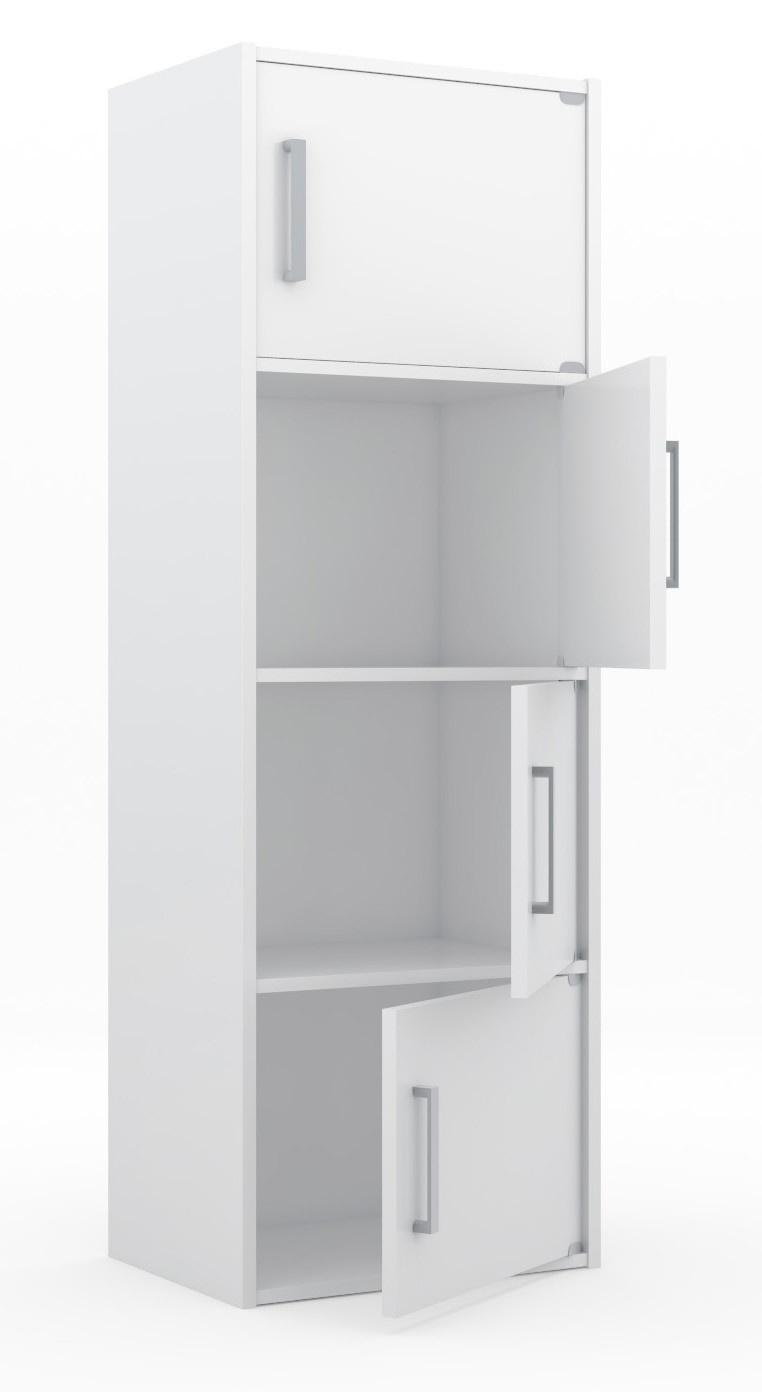cabinet_door: (261, 77, 588, 353), (397, 990, 584, 1276), (562, 376, 653, 670), (507, 682, 584, 979)
handle: (516, 756, 570, 928), (275, 134, 308, 292), (411, 1081, 437, 1244), (665, 434, 683, 598)
